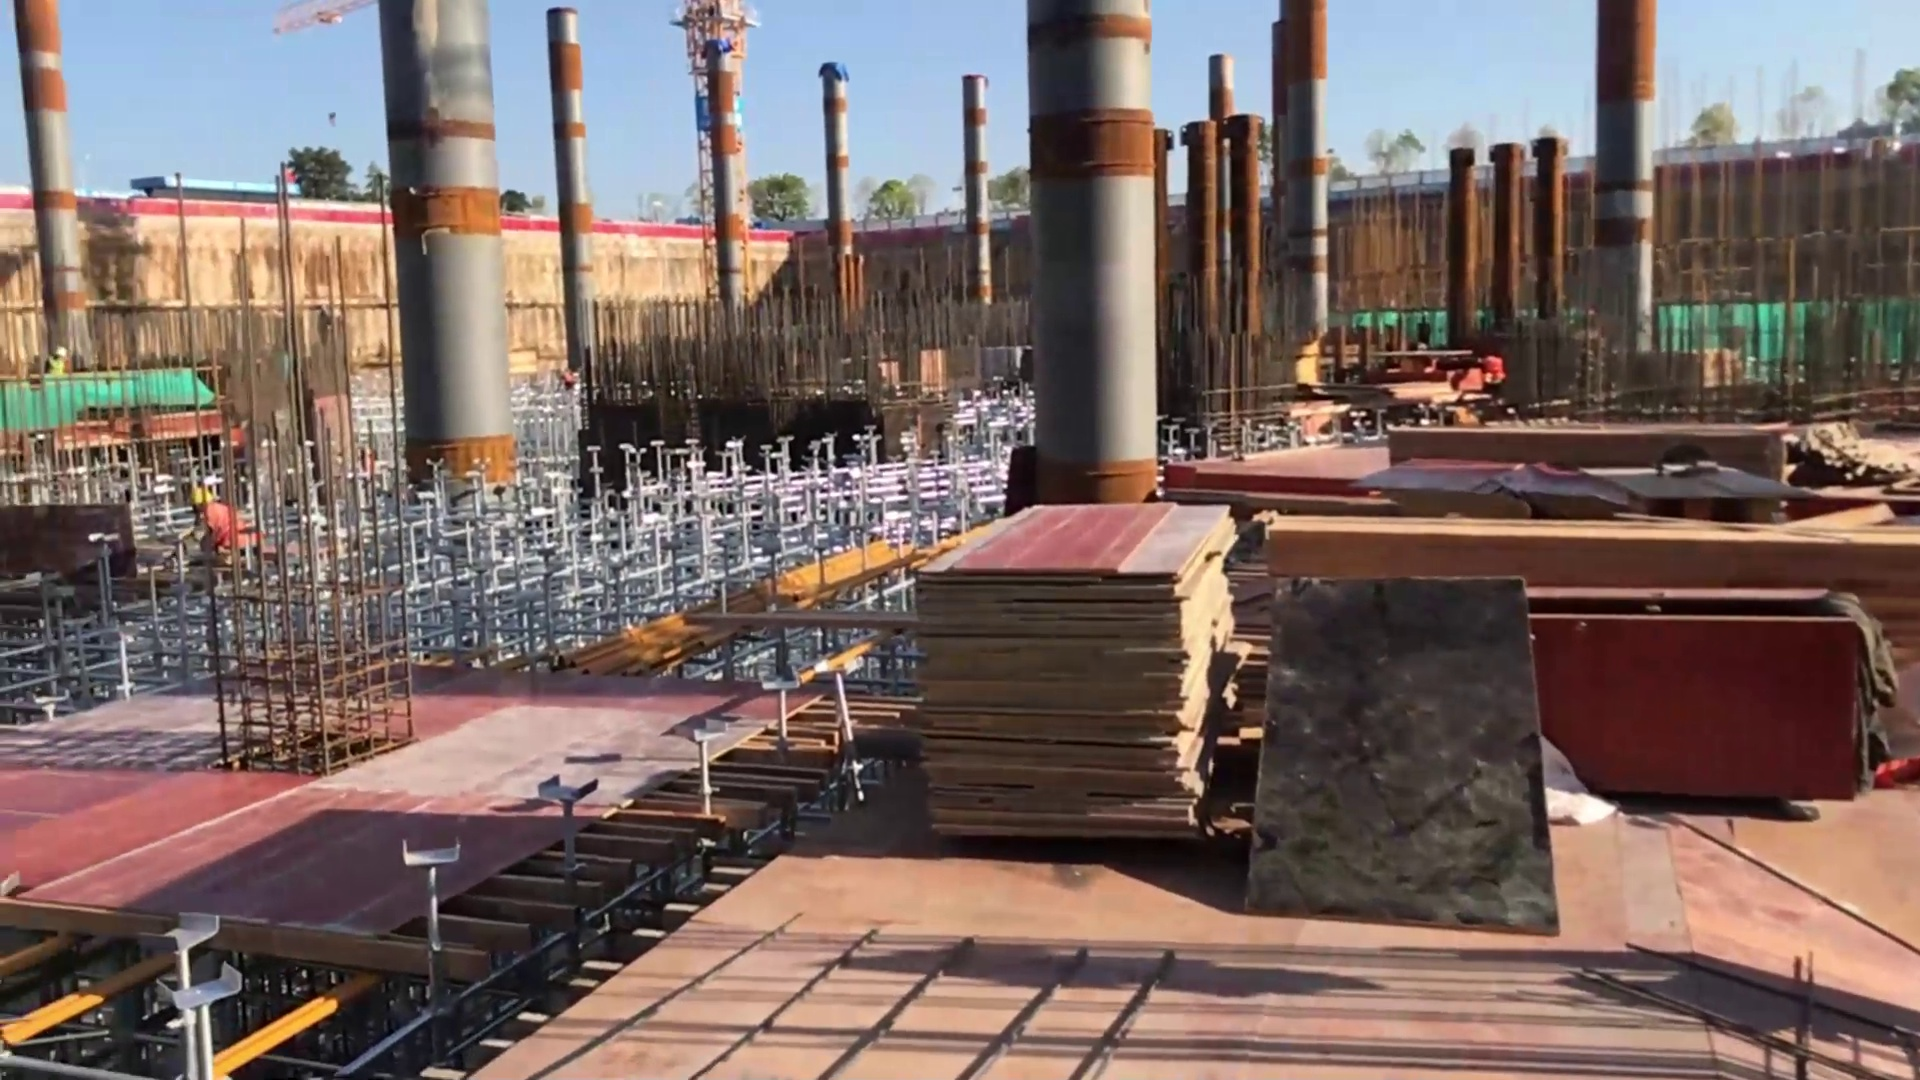board: (921, 503, 1233, 838)
person: (185, 489, 246, 557)
wood: (1275, 520, 1920, 716)
